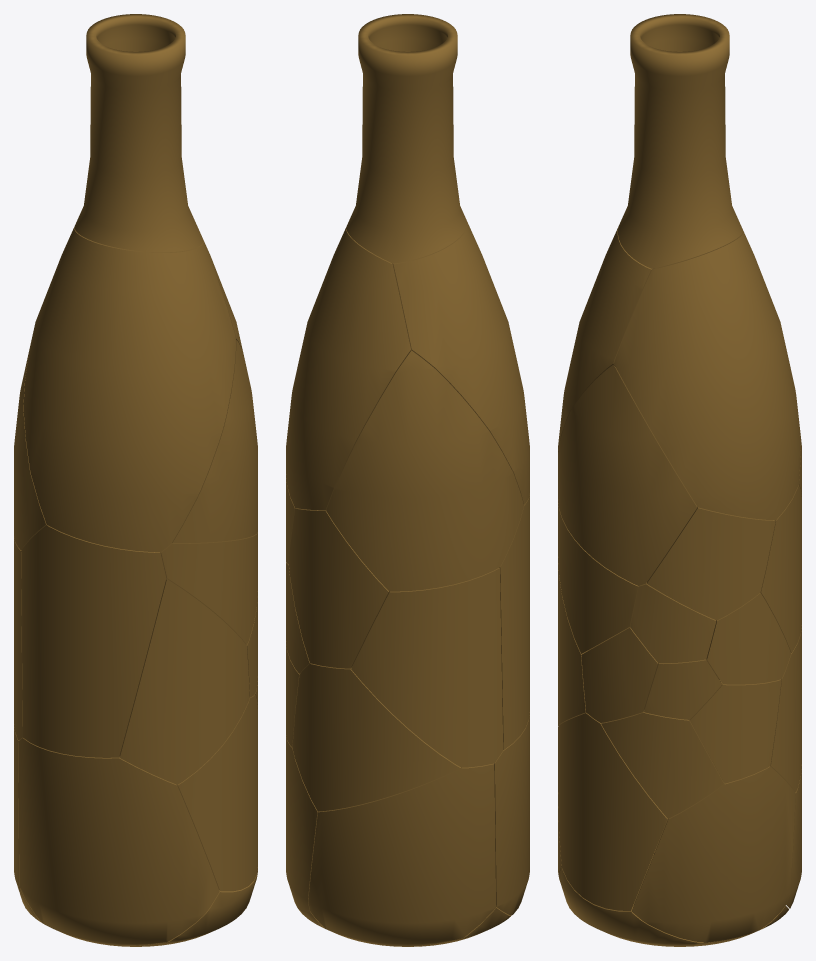
The model's file is bottle_beer_shards.glb.
3 views of the same model, side by side, from view 1: azimuth 30°, elevation 25°; view 2: azimuth 150°, elevation 25°; view 3: azimuth 270°, elevation 25° (orthographic).
Parts seen in each view (by area): view 1: Shard_00, Shard_04, Shard_05, Shard_01, Shard_12, Shard_10, Shard_08, Shard_15, Shard_06, Shard_03, Shard_11, Shard_07 (+1 smaller); view 2: Shard_06, Shard_07, Shard_01, Shard_11, Shard_02, Shard_00, Shard_13, Shard_14, Shard_05, Shard_04, Shard_09, Shard_19 (+2 smaller); view 3: Shard_02, Shard_01, Shard_09, Shard_08, Shard_10, Shard_16, Shard_18, Shard_00, Shard_17, Shard_15, Shard_19, Shard_20 (+7 smaller).
Boxes of the visible parts, x1,y1,x2,y2 form: Shard_00: [23, 227, 235, 552]; Shard_04: [18, 738, 219, 945]; Shard_05: [21, 525, 166, 757]; Shard_01: [74, 14, 203, 252]; Shard_12: [119, 579, 249, 784]; Shard_10: [176, 694, 257, 891]; Shard_08: [172, 340, 257, 543]; Shard_15: [160, 532, 257, 644]; Shard_06: [14, 340, 47, 550]; Shard_03: [19, 867, 257, 946]; Shard_11: [14, 537, 22, 740]; Shard_07: [14, 724, 19, 891]; Shard_06: [326, 350, 523, 591]; Shard_07: [308, 763, 496, 946]; Shard_01: [346, 14, 467, 263]; Shard_11: [351, 568, 503, 767]; Shard_02: [286, 227, 410, 510]; Shard_00: [392, 221, 529, 504]; Shard_13: [292, 663, 460, 811]; Shard_14: [289, 508, 389, 668]; Shard_05: [499, 494, 529, 749]; Shard_04: [494, 712, 529, 915]; Shard_09: [286, 735, 318, 910]; Shard_19: [286, 562, 310, 673]; Shard_02: [614, 231, 800, 520]; Shard_01: [618, 14, 743, 268]; Shard_09: [631, 766, 795, 942]; Shard_08: [558, 364, 697, 585]; Shard_10: [558, 713, 667, 910]; Shard_16: [646, 507, 775, 620]; Shard_18: [601, 710, 723, 818]; Shard_00: [558, 226, 654, 451]; Shard_17: [690, 679, 781, 783]; Shard_15: [558, 500, 638, 653]; Shard_19: [706, 593, 791, 684]; Shard_20: [581, 627, 658, 722].
Size of the model in its own units: 0.065 by 0.256 by 0.065.
